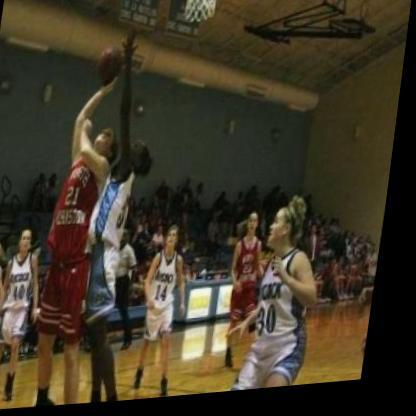basketball: (97, 47, 131, 83)
